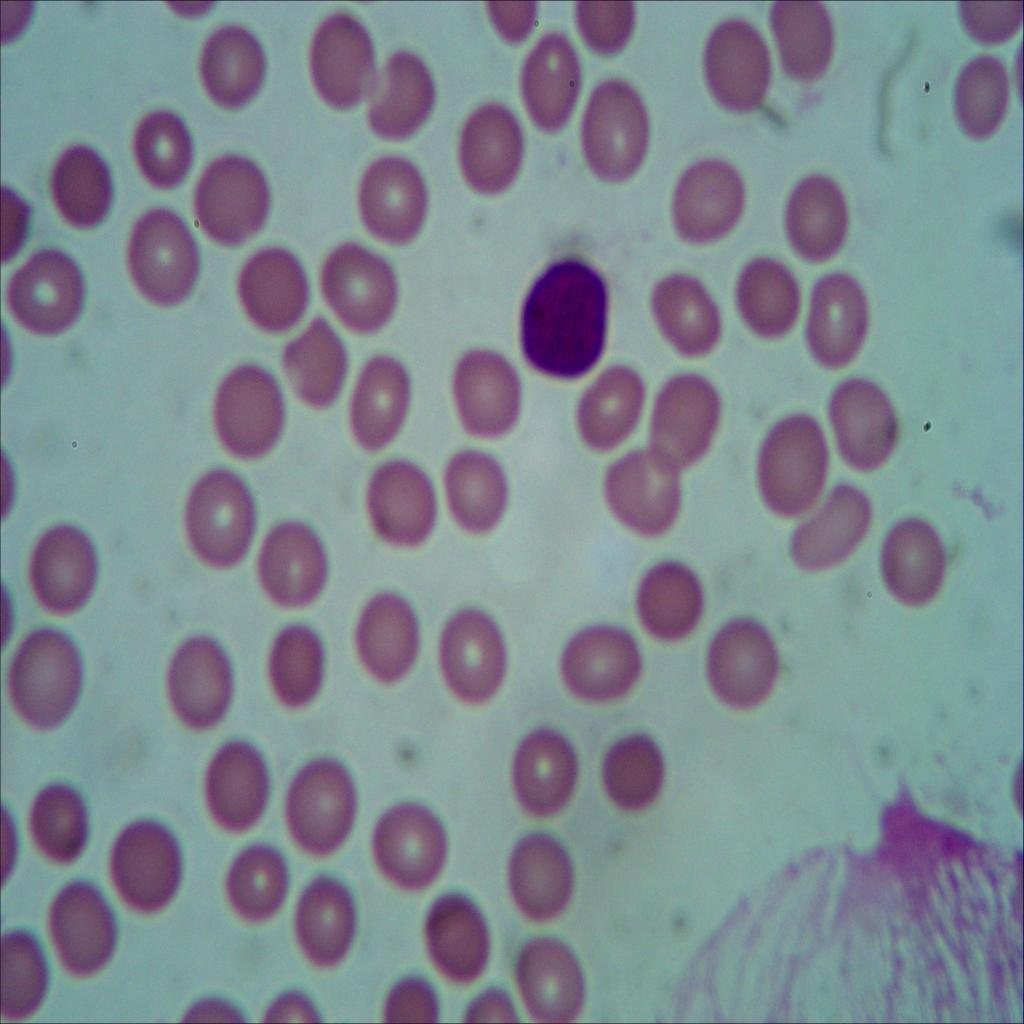Eritrosit: (189, 148, 293, 258), (444, 333, 534, 458), (341, 152, 444, 257), (3, 628, 96, 744), (206, 355, 294, 468), (306, 233, 403, 335), (358, 452, 446, 564), (828, 357, 910, 477), (280, 747, 361, 867), (493, 826, 586, 930), (797, 264, 876, 384), (575, 78, 656, 195), (122, 203, 205, 317), (6, 244, 98, 346), (943, 50, 1024, 164), (782, 482, 880, 576), (225, 222, 309, 331), (177, 456, 255, 572), (277, 306, 355, 422), (702, 616, 792, 716), (162, 626, 238, 744), (347, 585, 429, 693), (252, 516, 346, 610), (436, 604, 516, 714), (366, 786, 449, 892), (669, 141, 754, 244), (700, 14, 779, 124), (106, 816, 192, 916), (780, 165, 859, 273), (410, 880, 491, 985), (28, 512, 107, 618), (198, 733, 274, 842), (588, 725, 670, 826), (554, 617, 643, 710), (46, 136, 128, 236), (876, 512, 954, 617), (599, 441, 687, 534), (629, 554, 712, 652), (751, 414, 831, 515), (44, 877, 122, 980), (760, 0, 842, 97), (511, 934, 599, 1024), (355, 50, 440, 142), (517, 28, 582, 148), (301, 6, 379, 104), (515, 709, 582, 823), (458, 102, 528, 210), (290, 869, 358, 980), (350, 356, 420, 462), (567, 364, 648, 454), (646, 374, 722, 468), (641, 270, 726, 354), (438, 447, 518, 536), (739, 240, 806, 346), (258, 622, 331, 718), (200, 22, 274, 114), (27, 778, 100, 868), (132, 103, 202, 195), (226, 842, 292, 936), (0, 932, 55, 1021)
Limfoblast: (520, 250, 616, 388)
